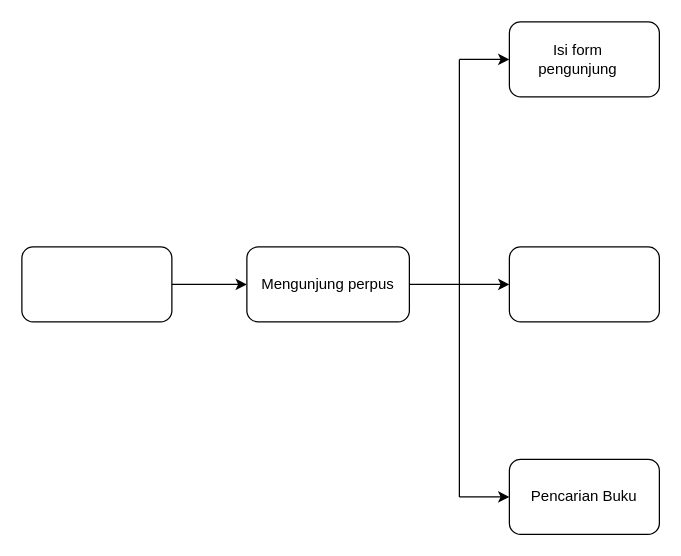
Image size: 681x556. Some labels were removed from this diagram. The centre of each missing label's shape, as x and y in pixels:
Lihat daftar pengunjung: (x=583, y=284)
User: (x=96, y=284)
